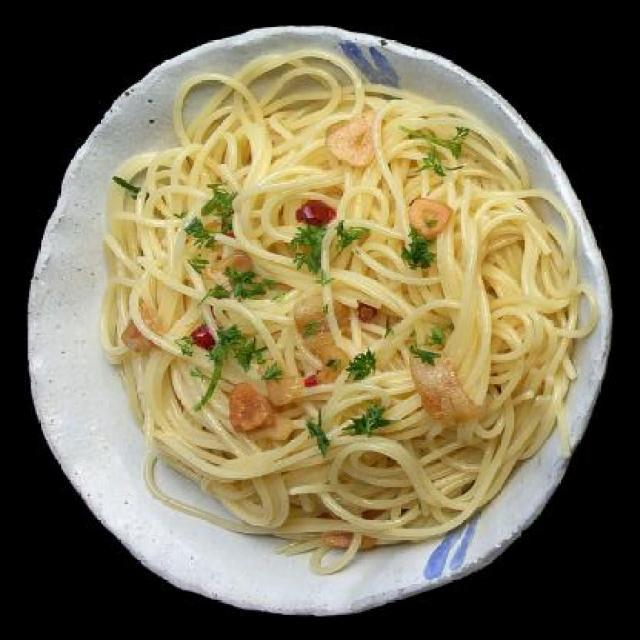Oil pasta: (65, 49, 562, 613)
